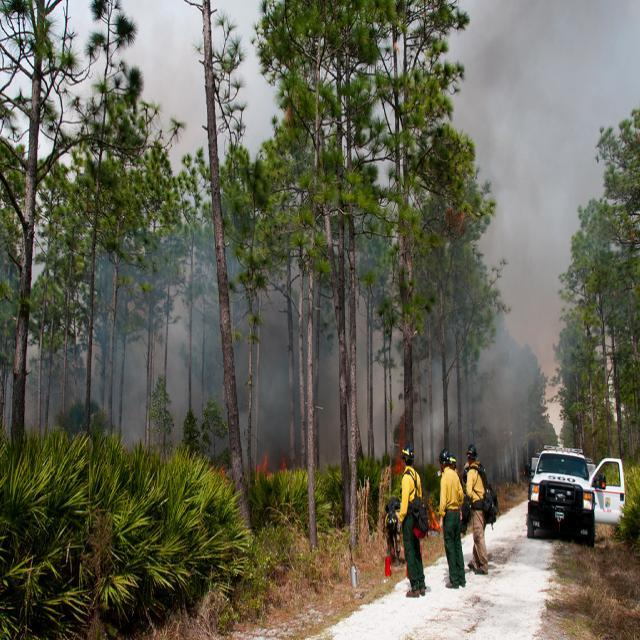Fire: (252, 453, 270, 476)
